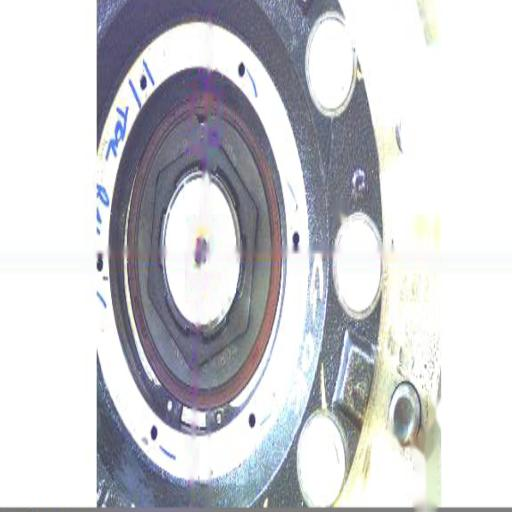center: (192, 235, 208, 265)
notch: (190, 110, 212, 130)
